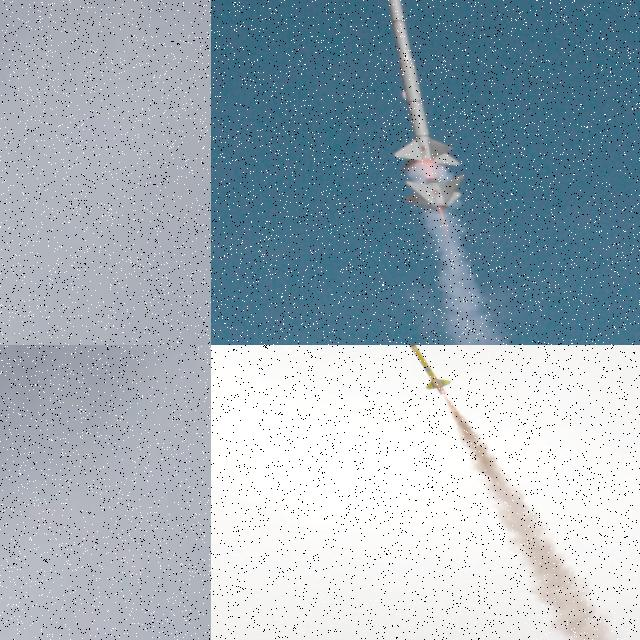Rocket: (373, 0, 466, 215), (365, 345, 452, 396)
